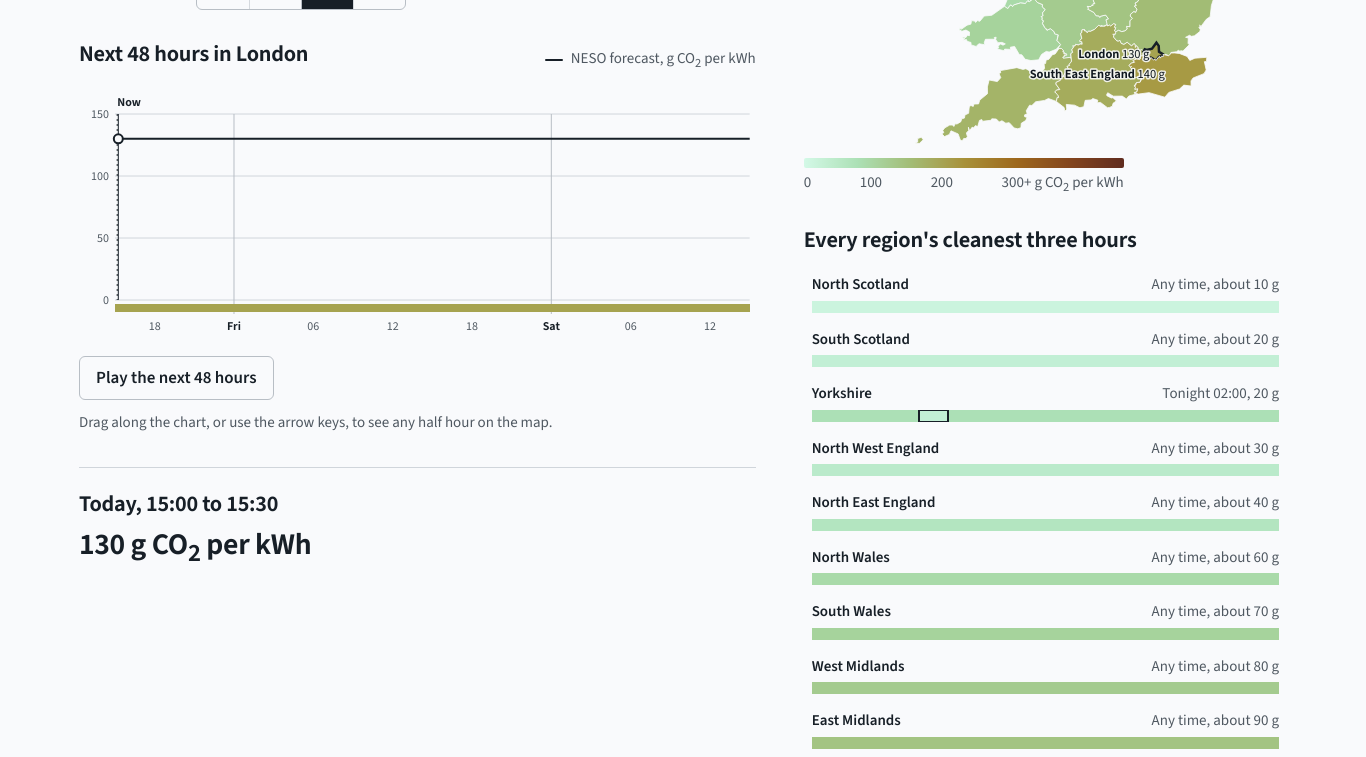
Test: stops where it is when paused
(page scrolled)
Click the button "Play the next 48 hours" at (176, 378), box [79,356,274,400]
Wait 180 ms
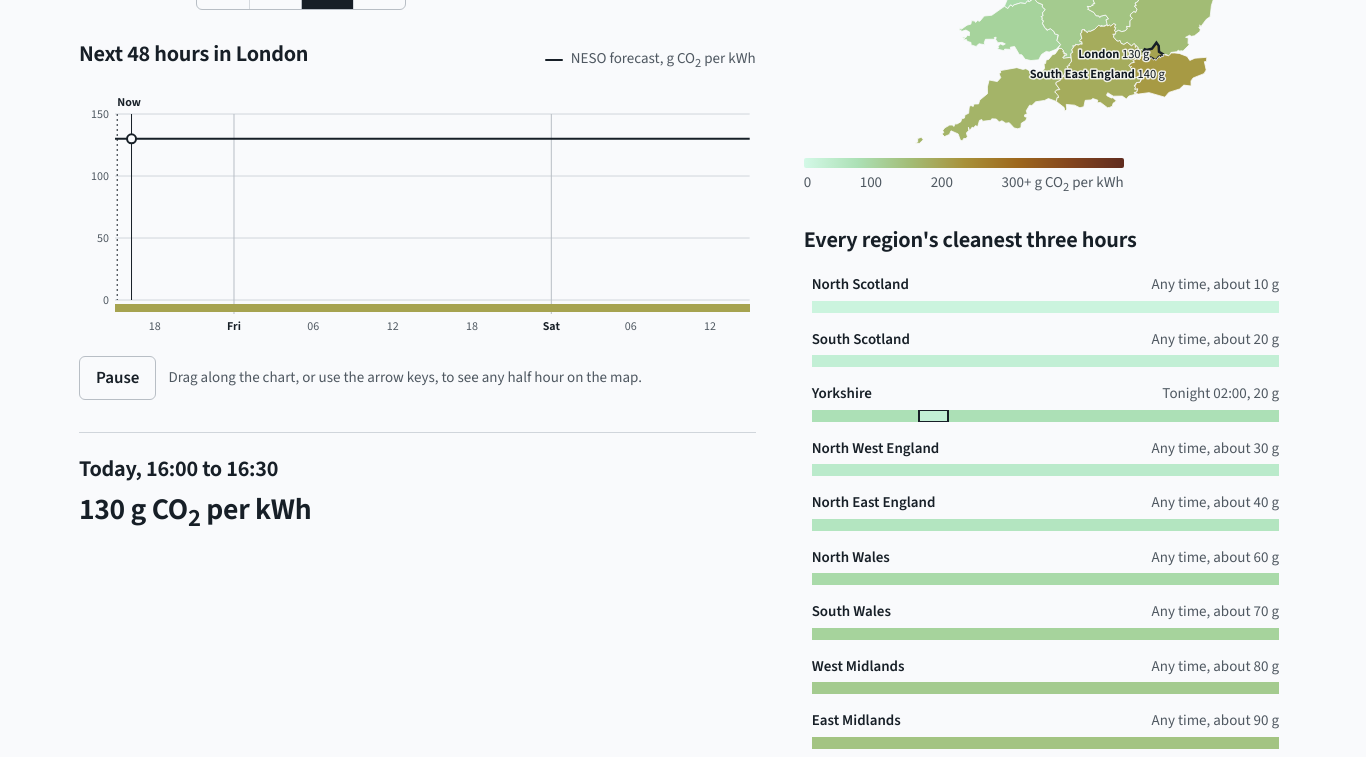
Click the button "Pause" at (118, 378), box [79,356,156,400]
Wait 450 ms
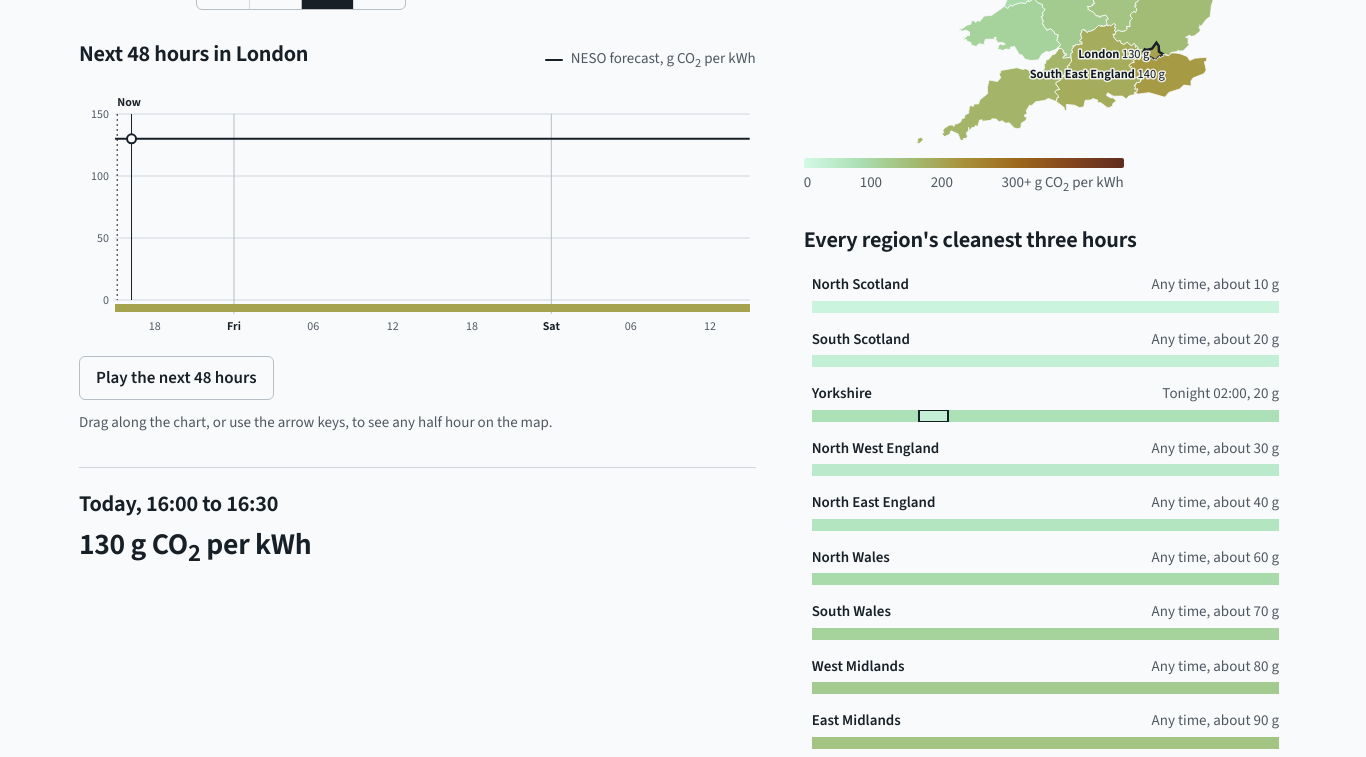
Expected: the button "Play the next 48 hours" is shown, [79,356,274,400]
